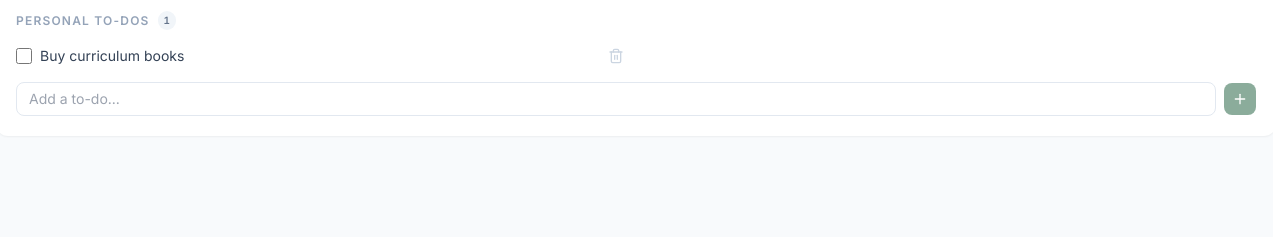
Scenario: PersonalTodoList › deletes a to-do via the destructive confirm pattern
The width and height of the screenshot is (1273, 237).
expect the text "Buy curriculum books" is shown: met, box [40,47,184,64]
Click the button named "delete \"buy curriculum books\"". click: (616, 56)
box: [608,48,624,64]
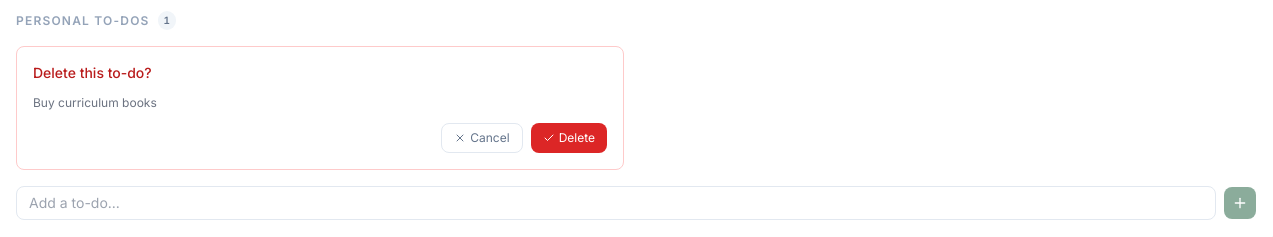
expect the text "Delete this to-do?" is shown: met, box [33,64,152,81]
Click the button "Cancel". click: (482, 138)
box: [441,123,523,153]
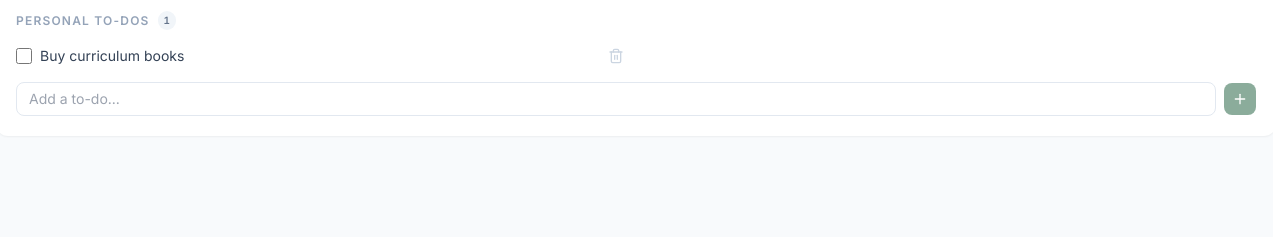
expect the text "Delete this to-do?" is gone: met
Click the button named "delete \"buy curriculum books\"". click: (616, 56)
box: [608,48,624,64]
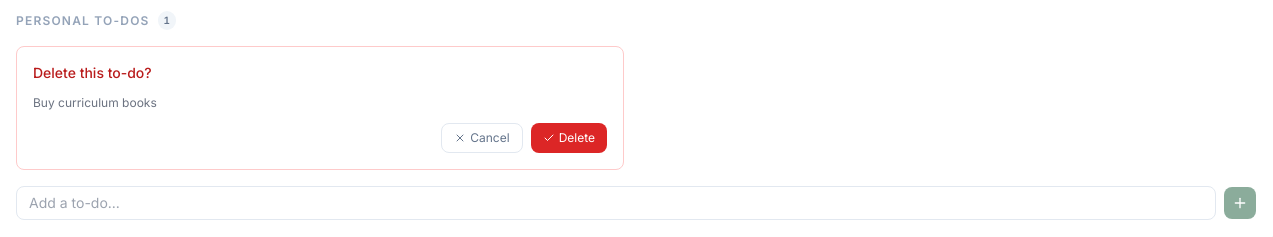
Click the button "Delete". click: (569, 138)
box: [531,123,607,153]
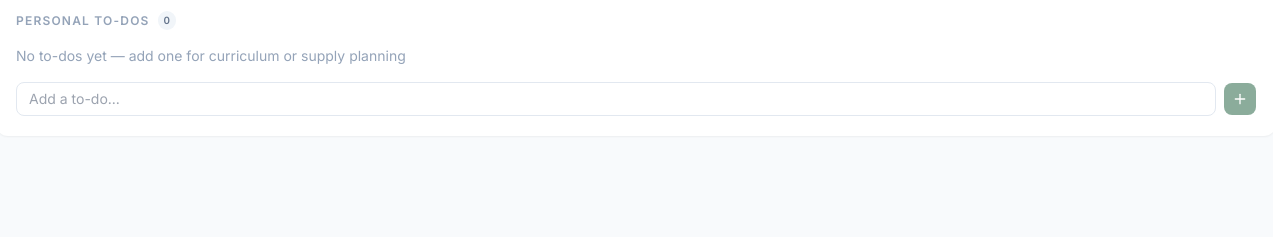
expect the text "Buy curriculum books" is gone: met
